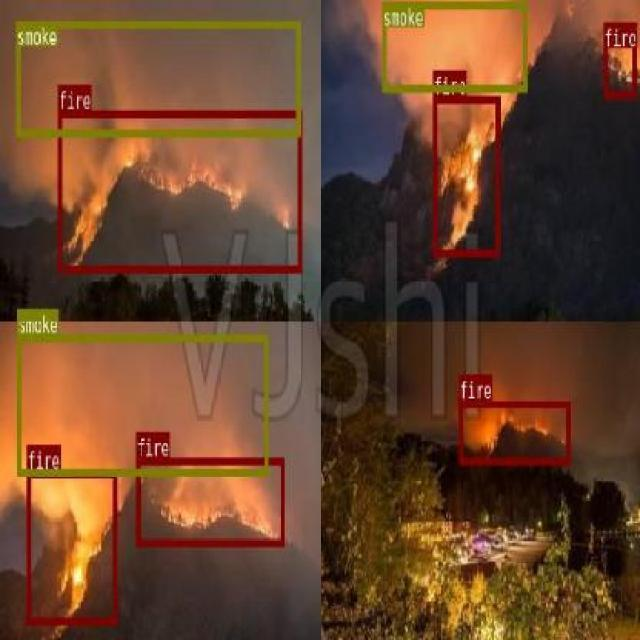fire: (57, 110, 300, 272), (26, 469, 116, 623), (134, 457, 284, 545), (432, 96, 498, 256), (458, 398, 570, 464), (602, 21, 636, 97)
smoke: (16, 334, 267, 476), (15, 20, 300, 136), (382, 1, 526, 90)
